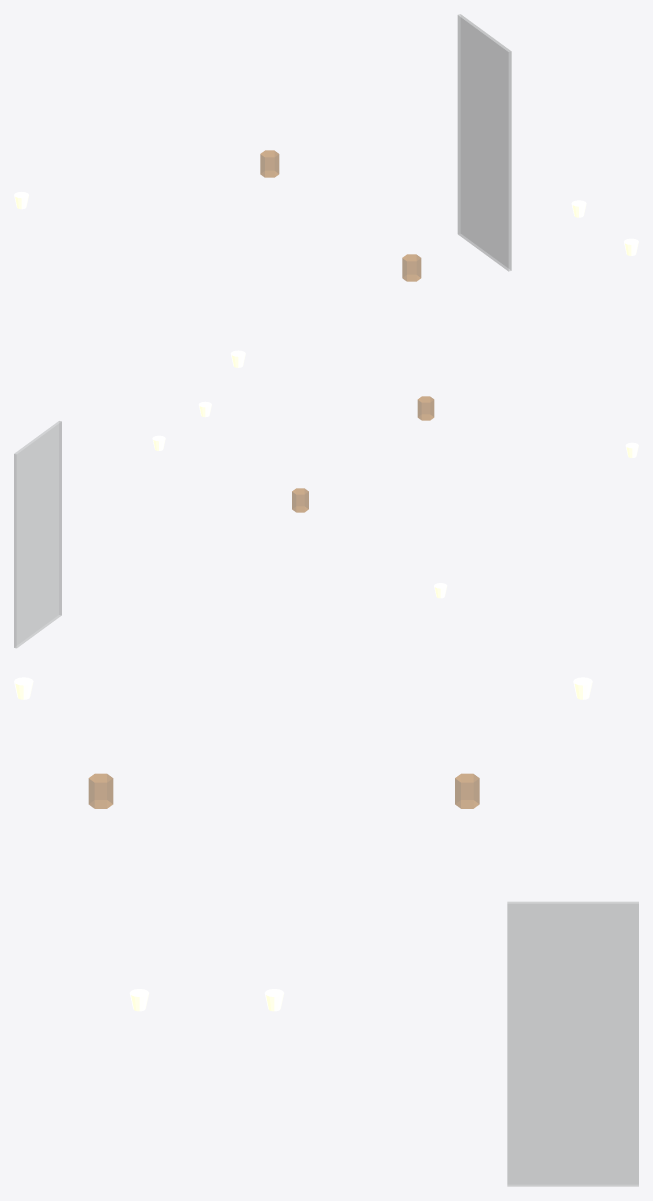
Rendered from room-cafe-fixtures.gltf.
3 views of the same model, one above another, from view 1: azimuth 30°, elevation 25°; view 2: azimuth 150°, elevation 25°; view 3: azimuth 270°, elevation 25° (orthographic). The views are drawn at different scales.
Parts seen in each view (by area): view 1: room-cafe.baked.glass.001, room-cafe.baked.glow.001; view 2: room-cafe.baked.glass.001, room-cafe.baked.glow.001; view 3: room-cafe.baked.glass.001, room-cafe.baked.glow.001.
Boxes of the visible parts, left/top/right/bottom form: room-cafe.baked.glass.001: left=260, top=14, right=511, bottom=281; room-cafe.baked.glow.001: left=14, top=192, right=638, bottom=367; room-cafe.baked.glass.001: left=14, top=396, right=434, bottom=648; room-cafe.baked.glow.001: left=152, top=401, right=638, bottom=598; room-cafe.baked.glass.001: left=88, top=773, right=638, bottom=1186; room-cafe.baked.glow.001: left=14, top=677, right=592, bottom=1011.
Bounding box in the file's own units: 1.81 × 0.81 × 1.62.
